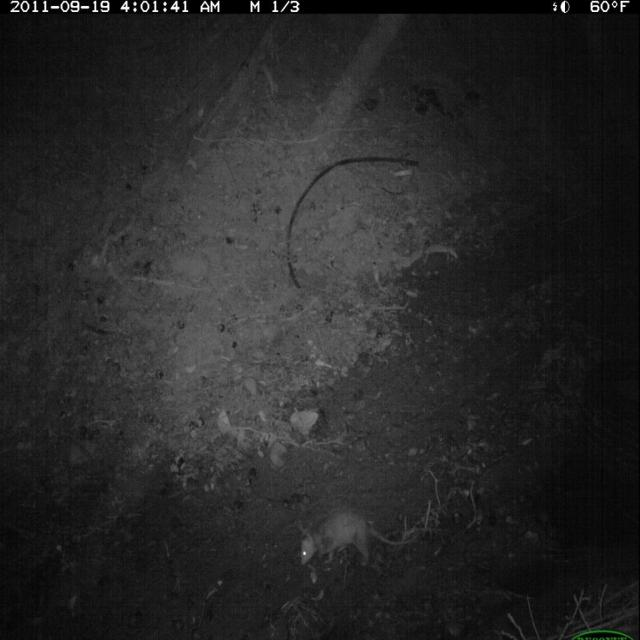opossum: (295, 506, 425, 572)
